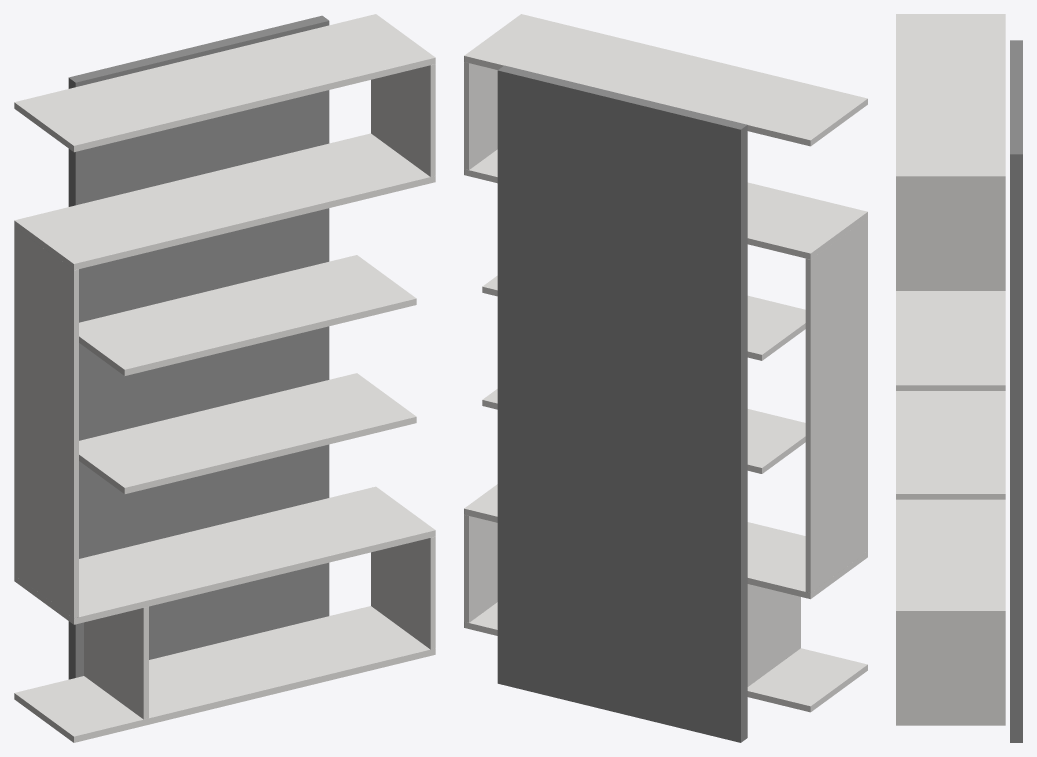
The model's file is shelf.FBX.
The picture shows the model from 3 angles, left to right: view 1: azimuth 30°, elevation 25°; view 2: azimuth 150°, elevation 25°; view 3: azimuth 270°, elevation 25°; orthographic projection. The views are drawn at different scales.
Visible parts, largest first — view 1: Box001, Cube_003_Cube_002, Cube_002, Cube_006_Cube_002, Cube_001_Cube_002, Cube_Cube_002, Cube_007_Cube_002, Cube_008_Cube_002, Cube_005_Cube_002, Cube_004_Cube_002, Cube_009_Cube_012; view 2: Box001, Cube_006_Cube_002, Cube_003_Cube_002, Cube_002, Cube_Cube_002, Cube_001_Cube_002, Cube_009_Cube_012, Cube_004_Cube_002, Cube_005_Cube_002, Cube_008_Cube_002, Cube_007_Cube_002; view 3: Cube_003_Cube_002, Cube_001_Cube_002, Cube_007_Cube_002, Cube_005_Cube_002, Cube_004_Cube_002, Cube_008_Cube_002, Box001, Cube_Cube_002, Cube_002.
Part boxes in pixels (left/top/right/bottom): Box001: left=68, top=15, right=329, bottom=679; Cube_003_Cube_002: left=14, top=14, right=435, bottom=152; Cube_002: left=14, top=133, right=435, bottom=270; Cube_006_Cube_002: left=14, top=227, right=78, bottom=618; Cube_001_Cube_002: left=14, top=486, right=435, bottom=624; Cube_Cube_002: left=14, top=606, right=435, bottom=742; Cube_007_Cube_002: left=79, top=373, right=416, bottom=494; Cube_008_Cube_002: left=79, top=255, right=416, bottom=375; Cube_005_Cube_002: left=371, top=64, right=435, bottom=176; Cube_004_Cube_002: left=371, top=536, right=435, bottom=649; Cube_009_Cube_012: left=84, top=606, right=148, bottom=719; Box001: left=497, top=65, right=747, bottom=742; Cube_006_Cube_002: left=805, top=218, right=867, bottom=592; Cube_003_Cube_002: left=464, top=14, right=867, bottom=146; Cube_002: left=464, top=149, right=867, bottom=259; Cube_Cube_002: left=464, top=602, right=867, bottom=712; Cube_001_Cube_002: left=464, top=484, right=867, bottom=599; Cube_009_Cube_012: left=747, top=584, right=800, bottom=686; Cube_004_Cube_002: left=464, top=514, right=497, bottom=622; Cube_005_Cube_002: left=464, top=62, right=497, bottom=169; Cube_008_Cube_002: left=482, top=275, right=805, bottom=360; Cube_007_Cube_002: left=482, top=389, right=805, bottom=473; Cube_003_Cube_002: left=896, top=14, right=1005, bottom=182; Cube_001_Cube_002: left=896, top=499, right=1005, bottom=616; Cube_007_Cube_002: left=896, top=391, right=1005, bottom=499; Cube_005_Cube_002: left=896, top=182, right=1005, bottom=284; Cube_004_Cube_002: left=896, top=617, right=1005, bottom=719; Cube_008_Cube_002: left=896, top=291, right=1005, bottom=390; Box001: left=1010, top=40, right=1022, bottom=742; Cube_Cube_002: left=896, top=719, right=1005, bottom=725; Cube_002: left=896, top=285, right=1005, bottom=290.
Size of the model in its own units: 35.01 by 59.18 by 11.56.
2 materials, 1 textured.
